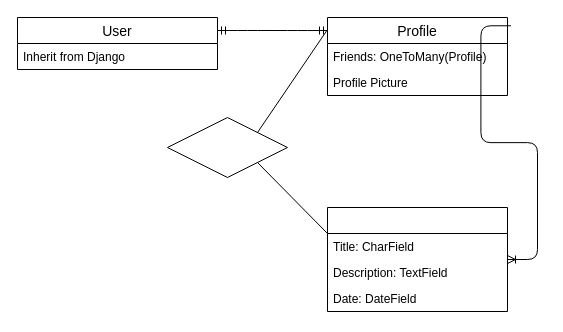
Some shapes in this 563 by 332 pixel diagram are drawn without their labels. The shapes that lost their labels are listed below. From the top down, each one's box as (x1, y1, x2, y2) in pixels, then its label:
(166, 116, 288, 178): Event-Profile Permissions
(326, 206, 508, 312): Event
